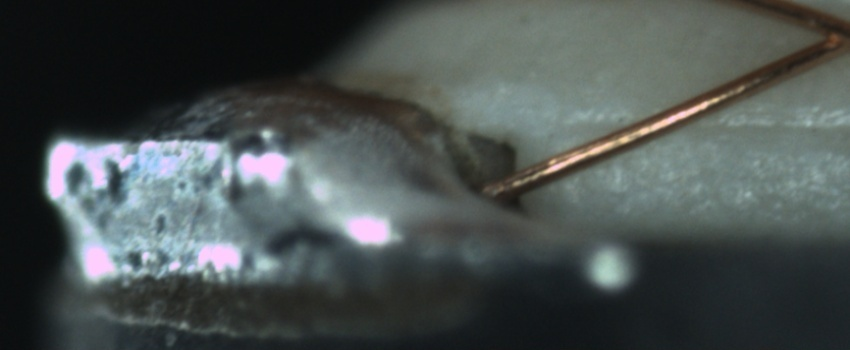CL: (795, 5, 850, 61)
DL: (564, 95, 848, 160)
